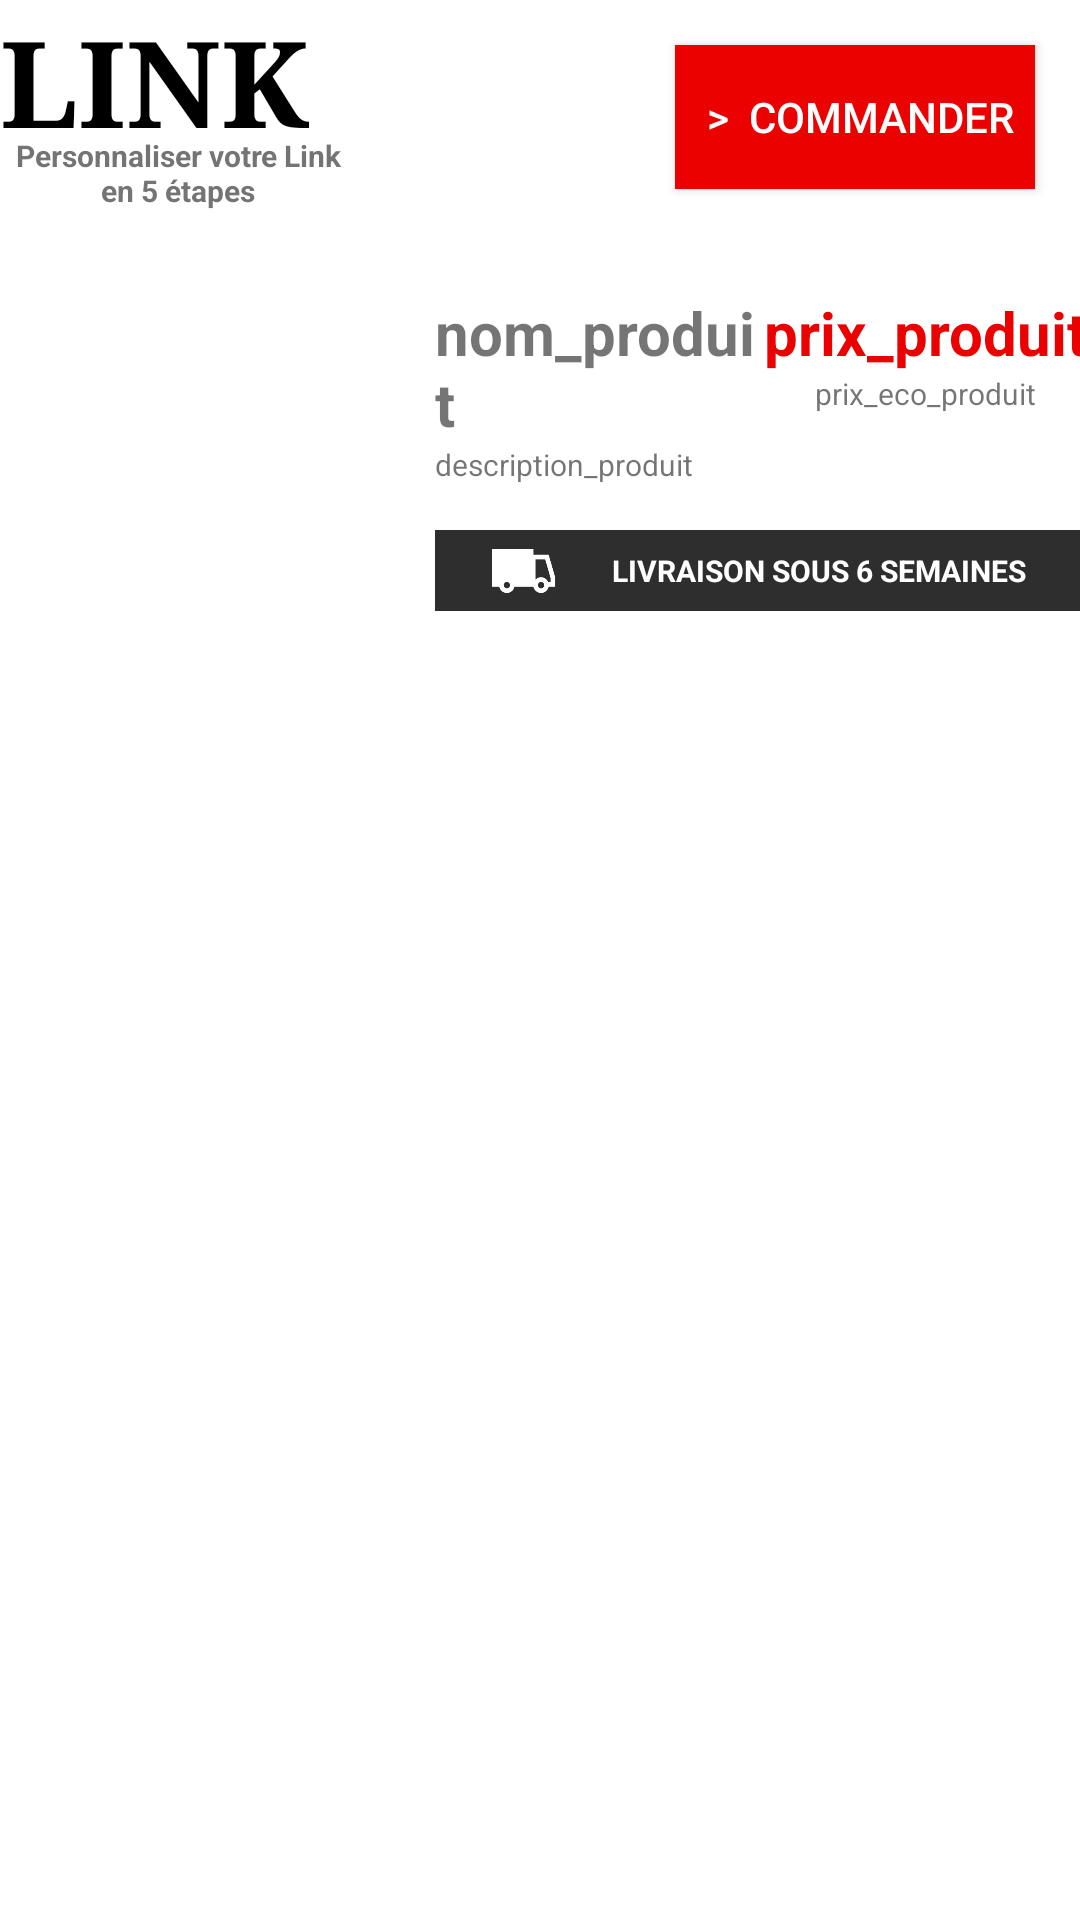

Point at icon controls on the screen. Image size 1080 x 1920, points as (x=x, y=y).
camion: (x=523, y=570)
